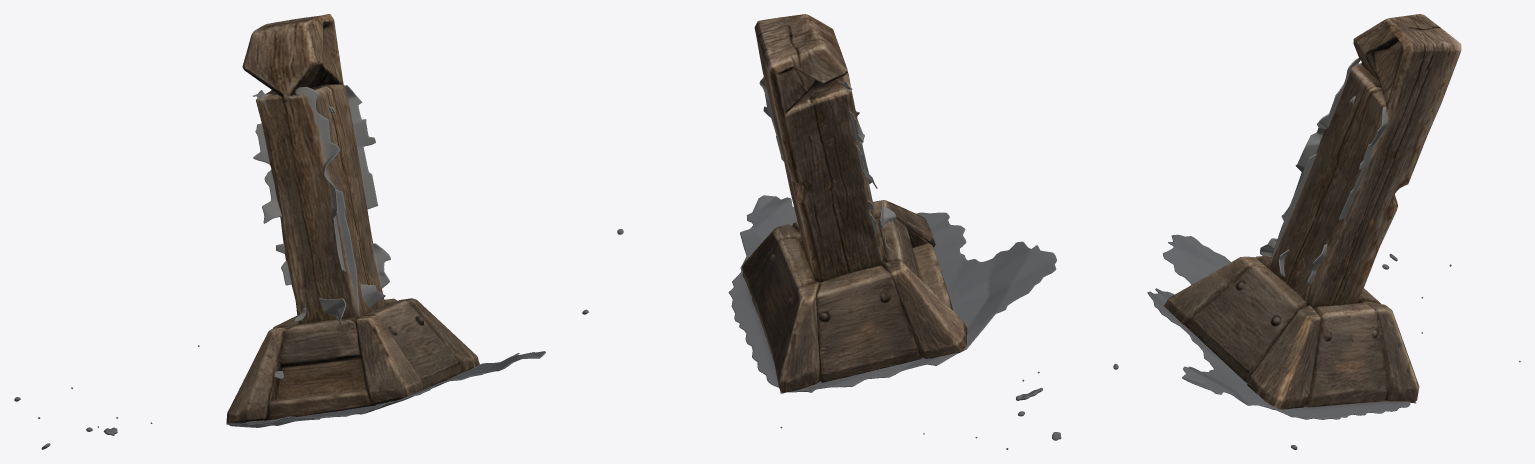
File: PROP-GreenlandsWayfindingMarker-01.fbx
The picture shows the model from 3 angles, left to right: view 1: azimuth 30°, elevation 25°; view 2: azimuth 150°, elevation 25°; view 3: azimuth 270°, elevation 25°; orthographic projection.
Visible parts, largest first — view 1: Art scale and orientation; view 2: Art scale and orientation; view 3: Art scale and orientation.
Part boxes in pixels (left/top/right/bottom): Art scale and orientation: left=14, top=14, right=588, bottom=449; Art scale and orientation: left=617, top=14, right=1118, bottom=449; Art scale and orientation: left=1147, top=14, right=1520, bottom=449.
Bounding box in the file's own units: 96.18 × 64.66 × 57.17.
1 material, 1 textured.
